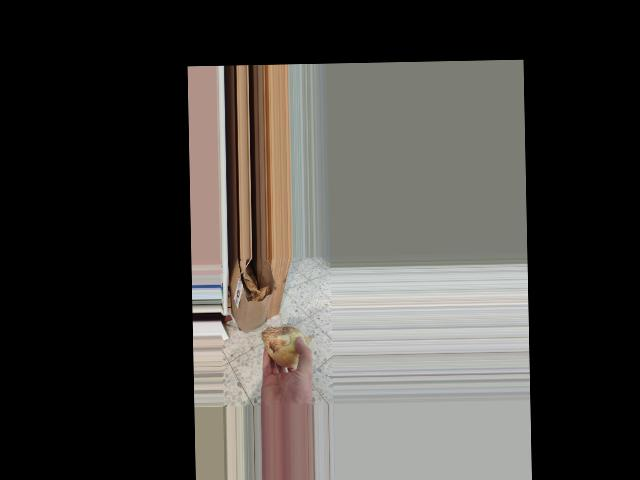onion: (260, 320, 310, 371)
